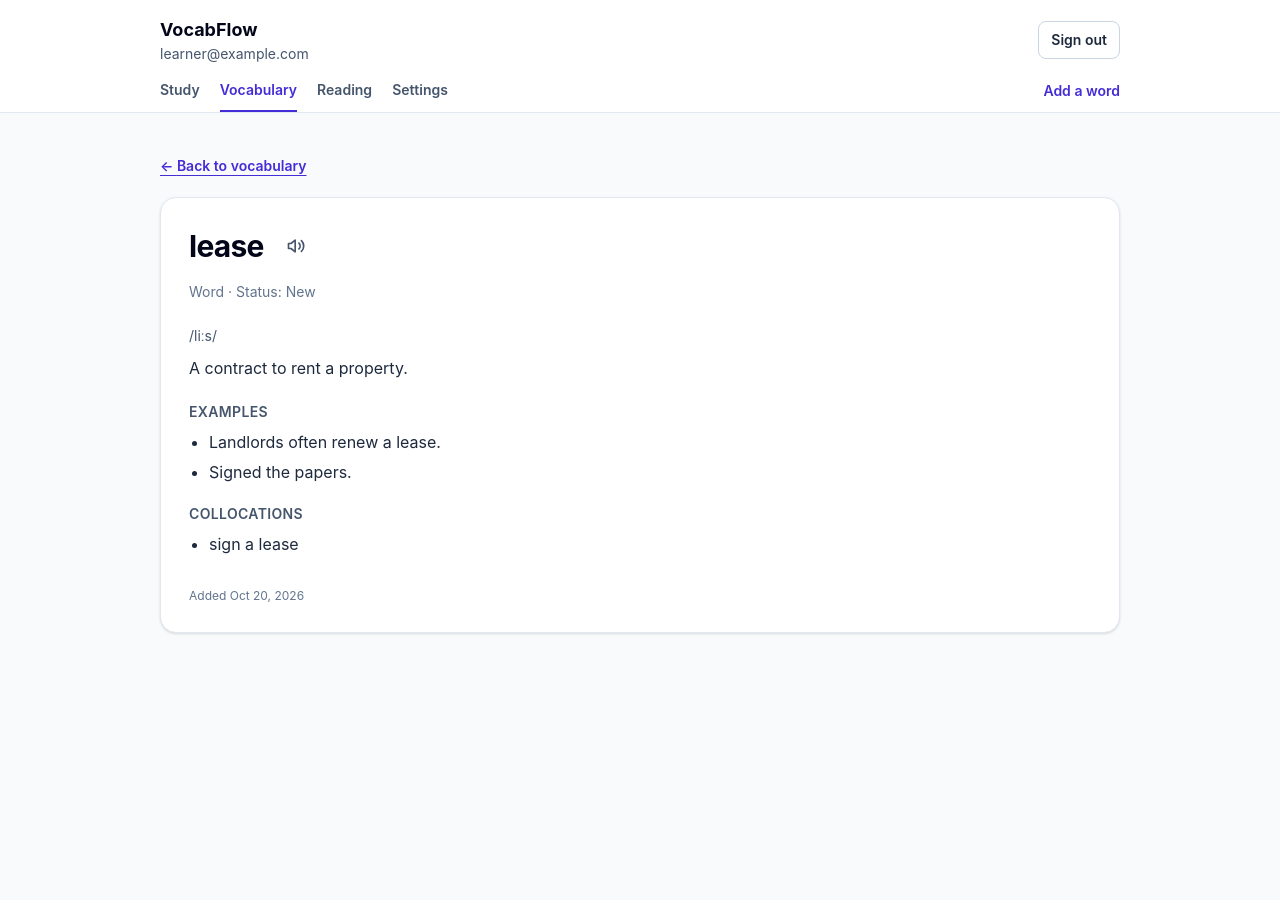
Test: a word already in the list says so
This screenshot has width=1280, height=900.
Step 1. Click the text "rent" → (306, 368), box left=291, top=358, right=321, bottom=378
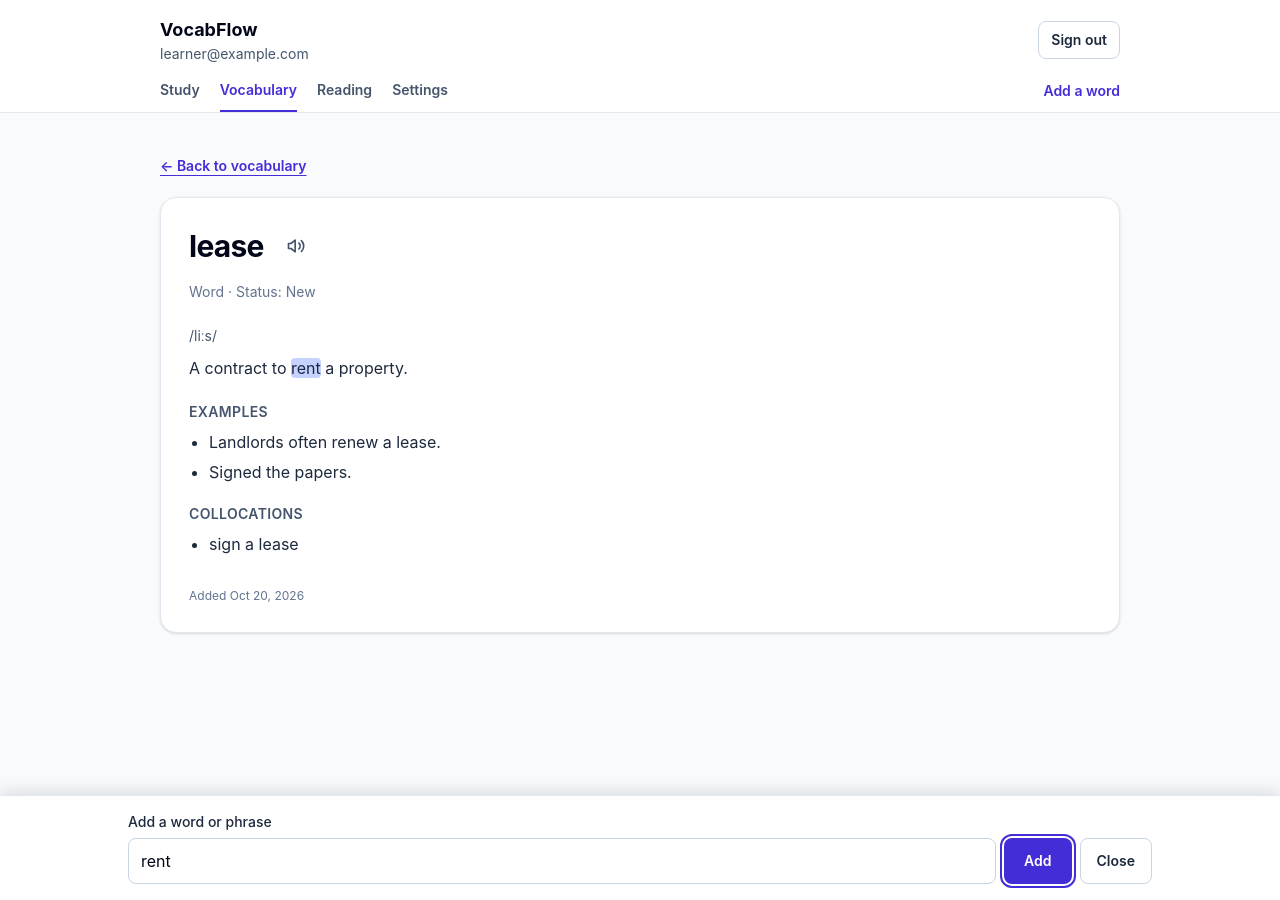
Step 2. Click the button "Add" → (1038, 861), box left=1004, top=838, right=1072, bottom=884
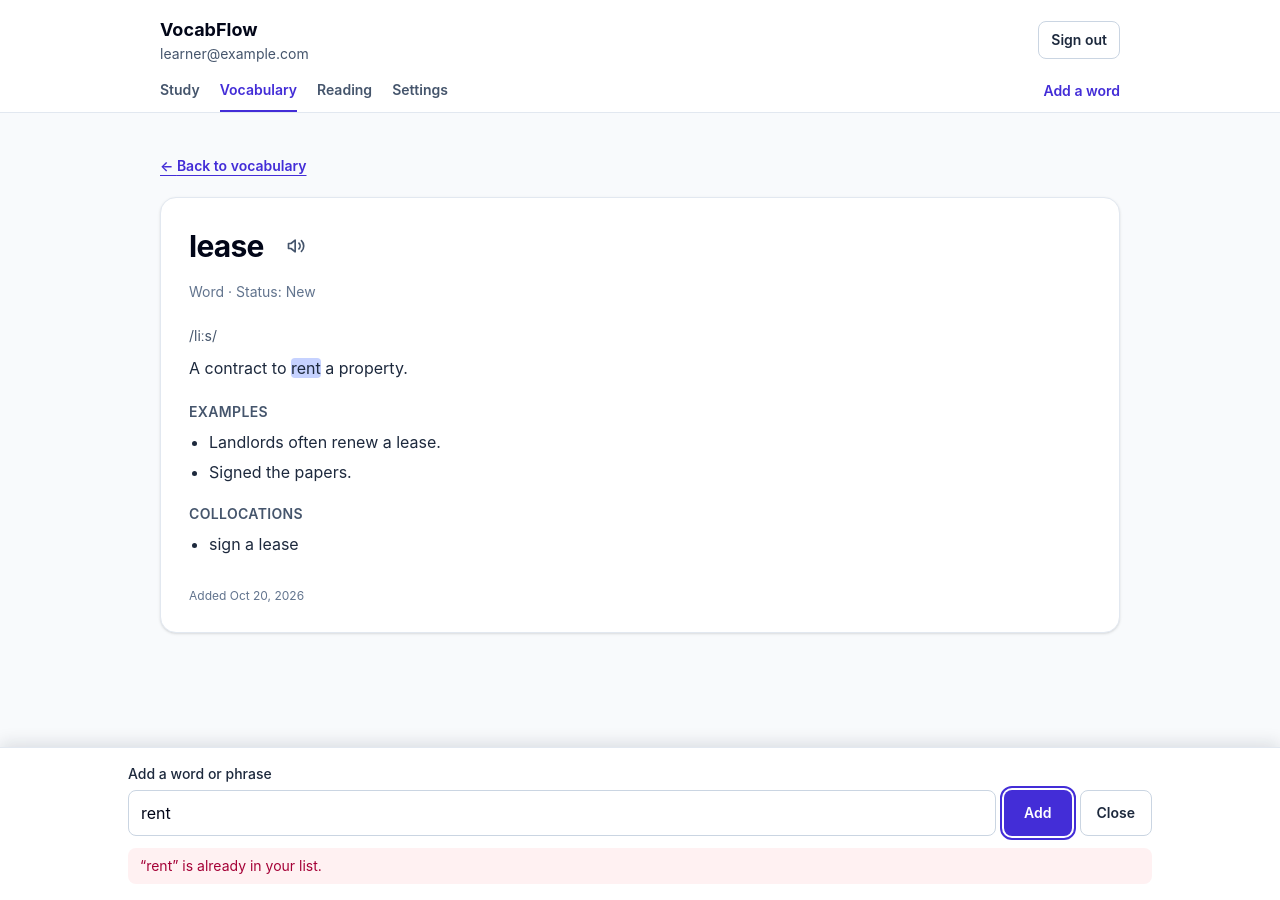
Now the message reads "“rent” is already in your list.", box left=140, top=857, right=322, bottom=874
